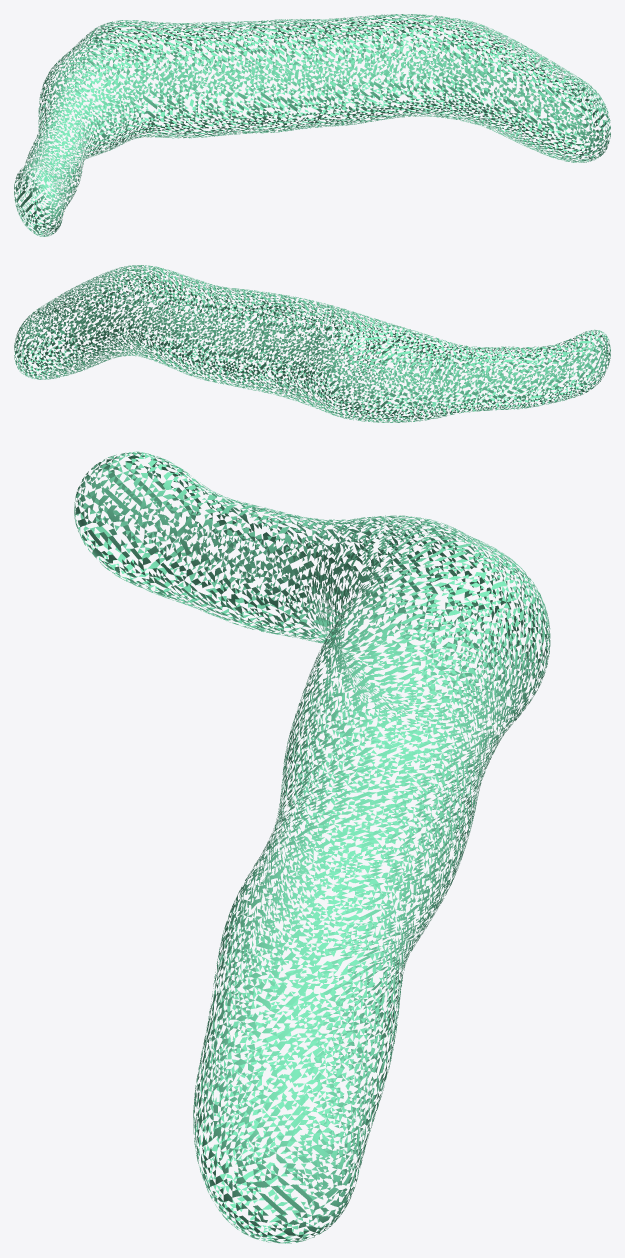
File: healthy.glb
3 renders of one model, top to bottom at view 1: azimuth 30°, elevation 25°; view 2: azimuth 150°, elevation 25°; view 3: azimuth 270°, elevation 25°, orthographic. The views are drawn at different scales.
Bounding box in the file's own units: 131 × 39.82 × 49.69.
